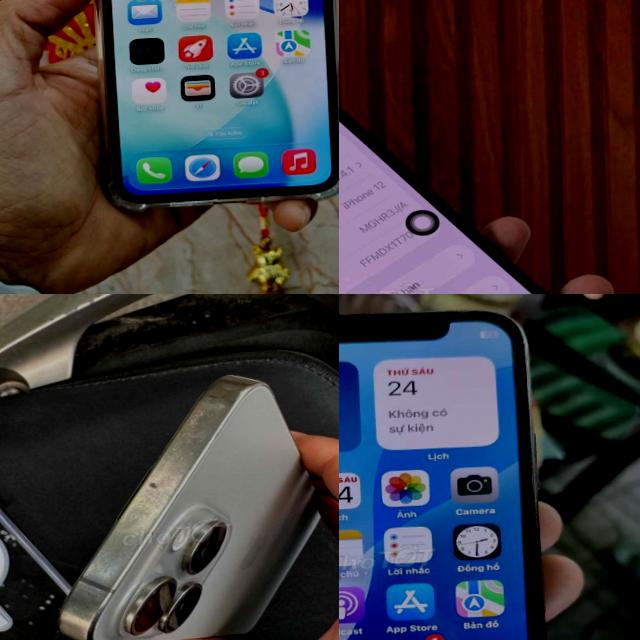gen_11: (339, 312, 543, 640), (59, 0, 339, 218)
gen_12_13: (339, 64, 618, 294)
gen_15: (38, 368, 339, 640)
